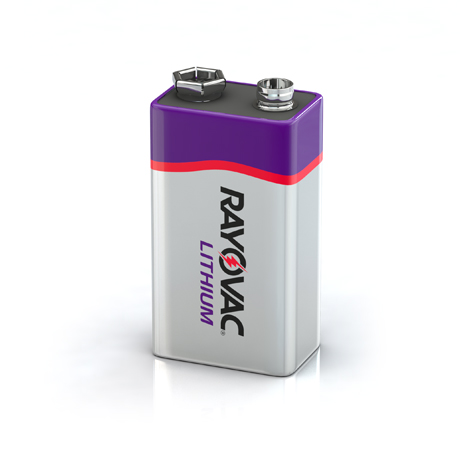9V: (142, 62, 325, 379)
